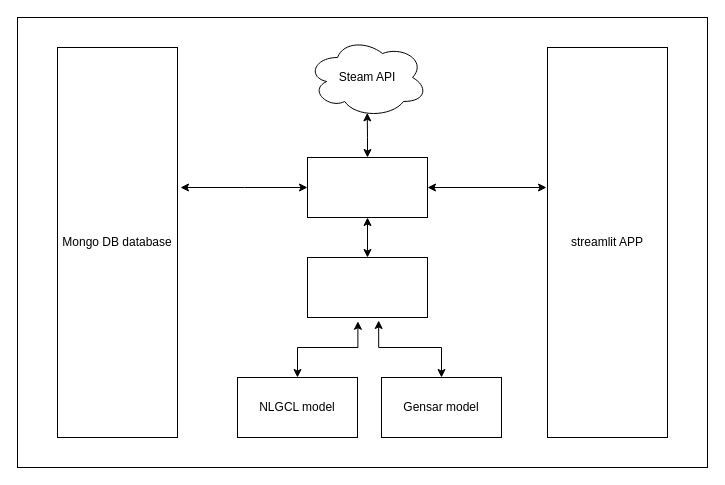
The diagram is 725 pixels wide and 485 high, and some of its shapes have lost their labels. The shapes that lost their labels are listed below. From the top down, each one's centre as x and y in pixels, then its label:
At (x=367, y=187): "API".
At (x=367, y=287): "Recomandation function".
